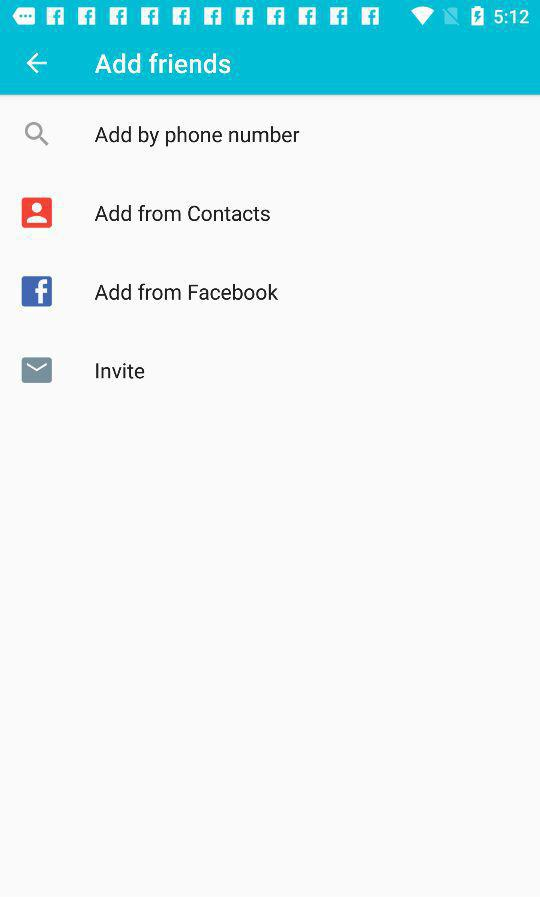Icon: (22, 276, 53, 308), (23, 197, 54, 229), (22, 357, 53, 384), (25, 122, 50, 147), (27, 53, 48, 75)
Text: (95, 126, 300, 148), (95, 283, 279, 301), (95, 205, 271, 223), (95, 54, 231, 75), (96, 363, 145, 380)
Toolbar: (1, 33, 540, 96)
UpperTaskBar: (1, 1, 540, 33)
